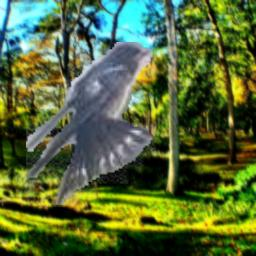Swallow: (26, 42, 156, 207)
